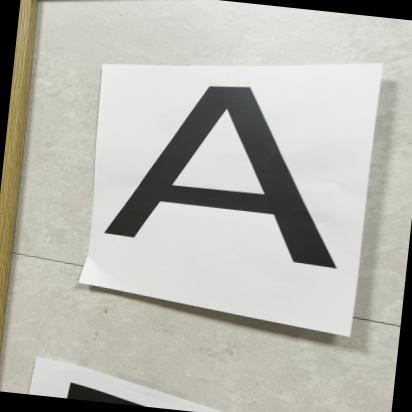seat: (100, 75, 372, 278)
